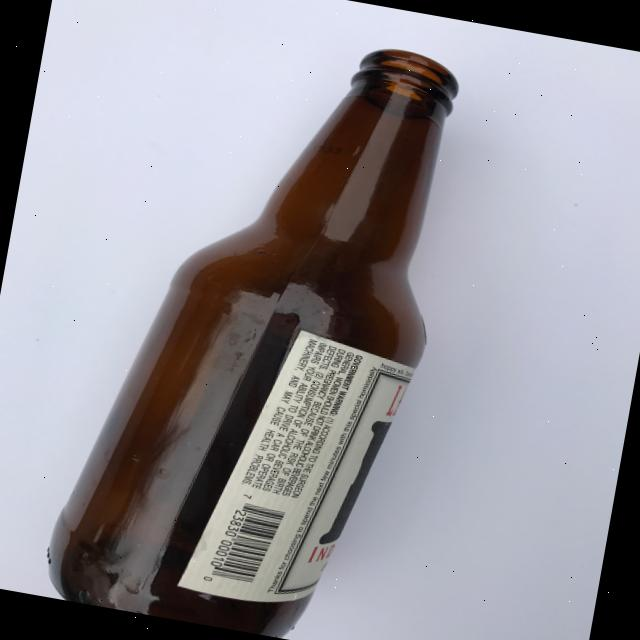glass: (38, 2, 476, 640)
